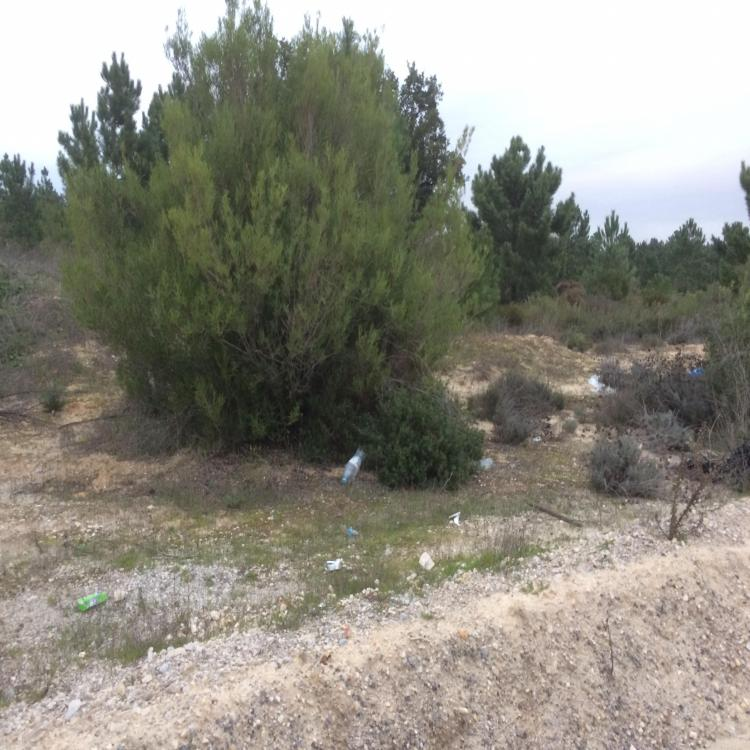Clear plastic bottle: (342, 448, 367, 484)
Plastic bottle cap: (342, 478, 346, 484)
Unlabeled litter: (324, 558, 344, 571), (348, 526, 357, 536)
